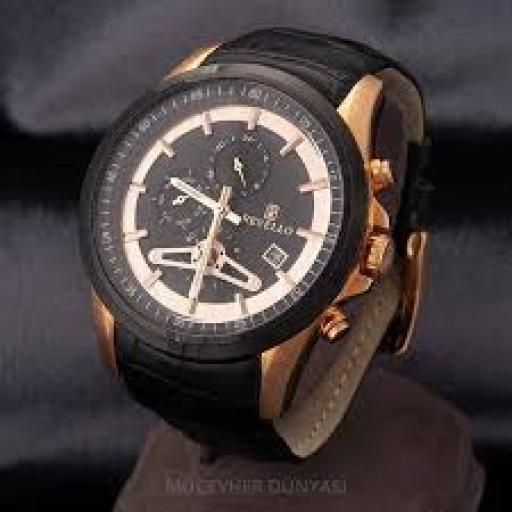KolSaati: (44, 4, 476, 476)
